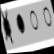correct: (14, 11, 26, 36)
not correct: (0, 2, 15, 47)
